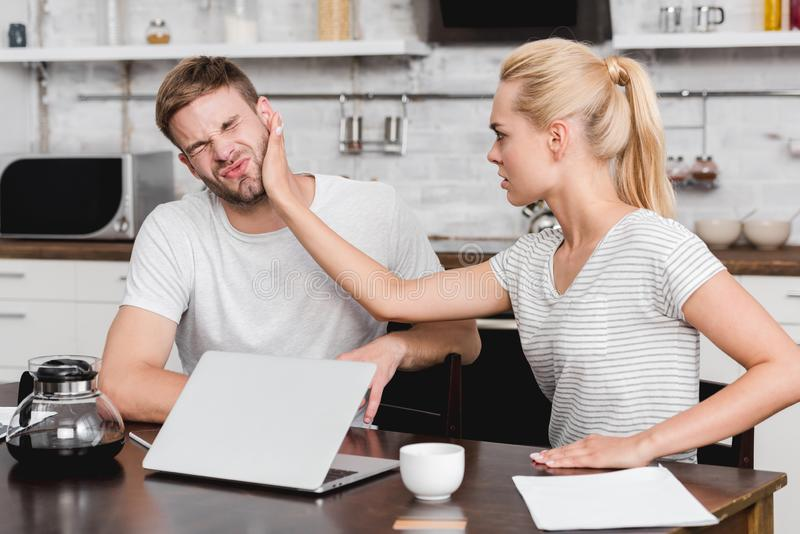unusual: (134, 28, 704, 483)
